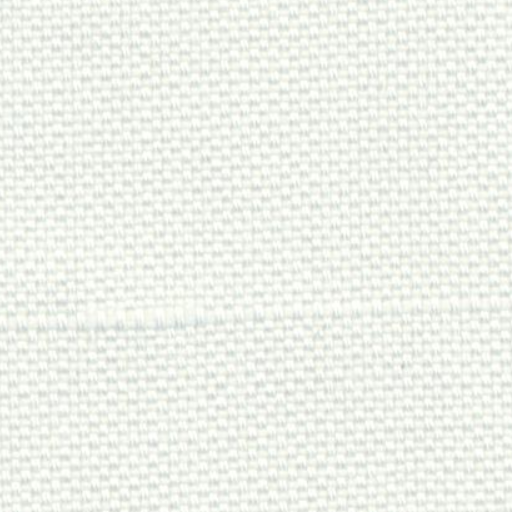DaiSha: (36, 294, 504, 340)
